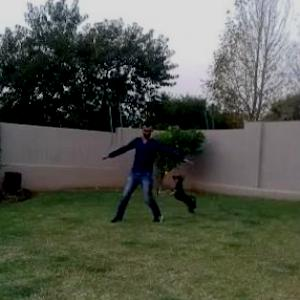land: (102, 122, 197, 234)
